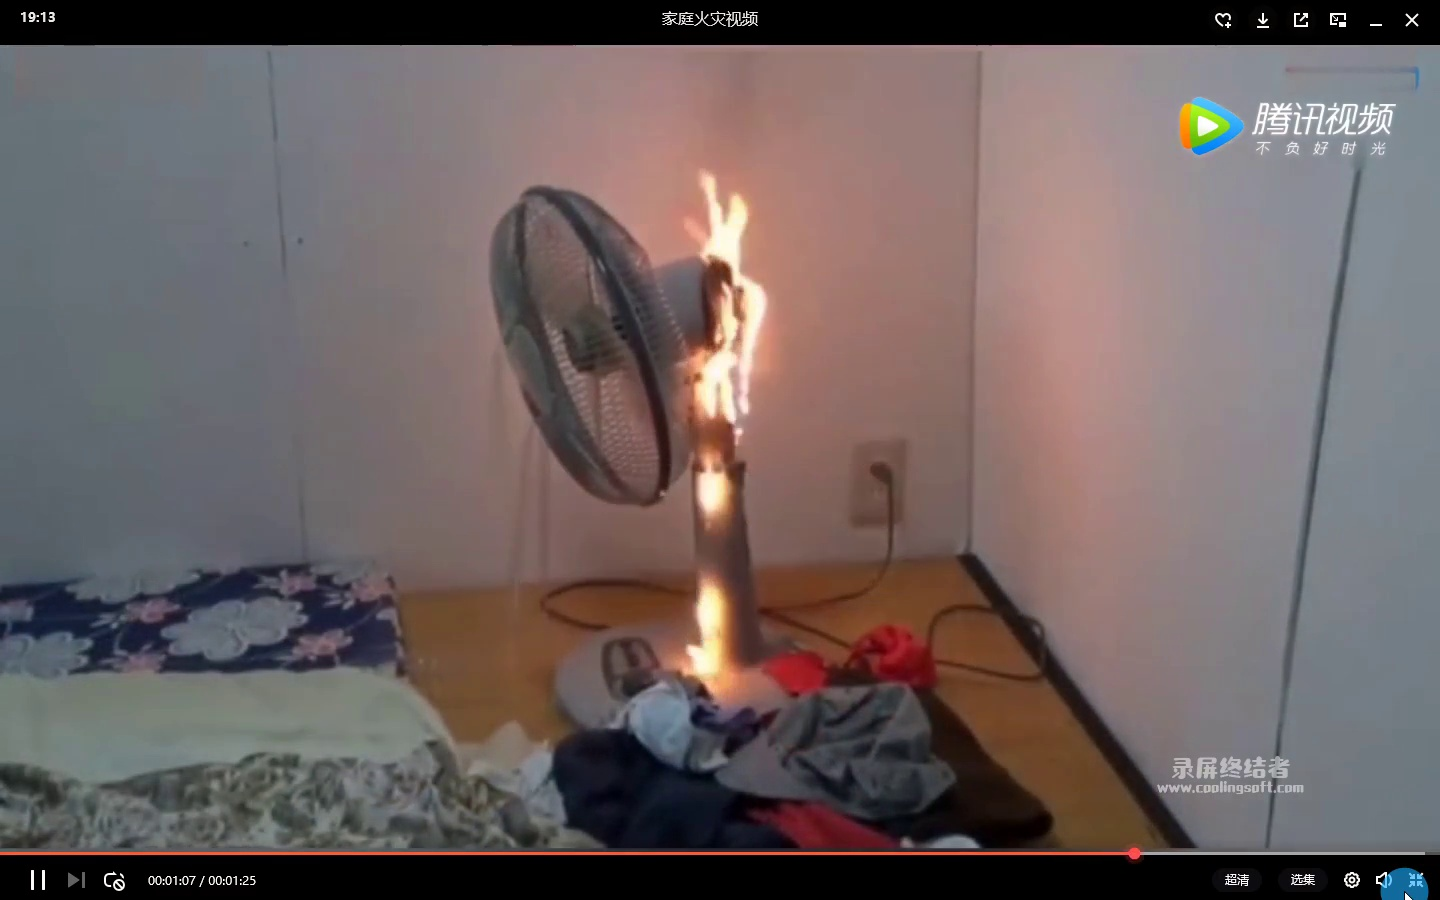fire: (672, 166, 775, 431), (682, 557, 734, 672)
